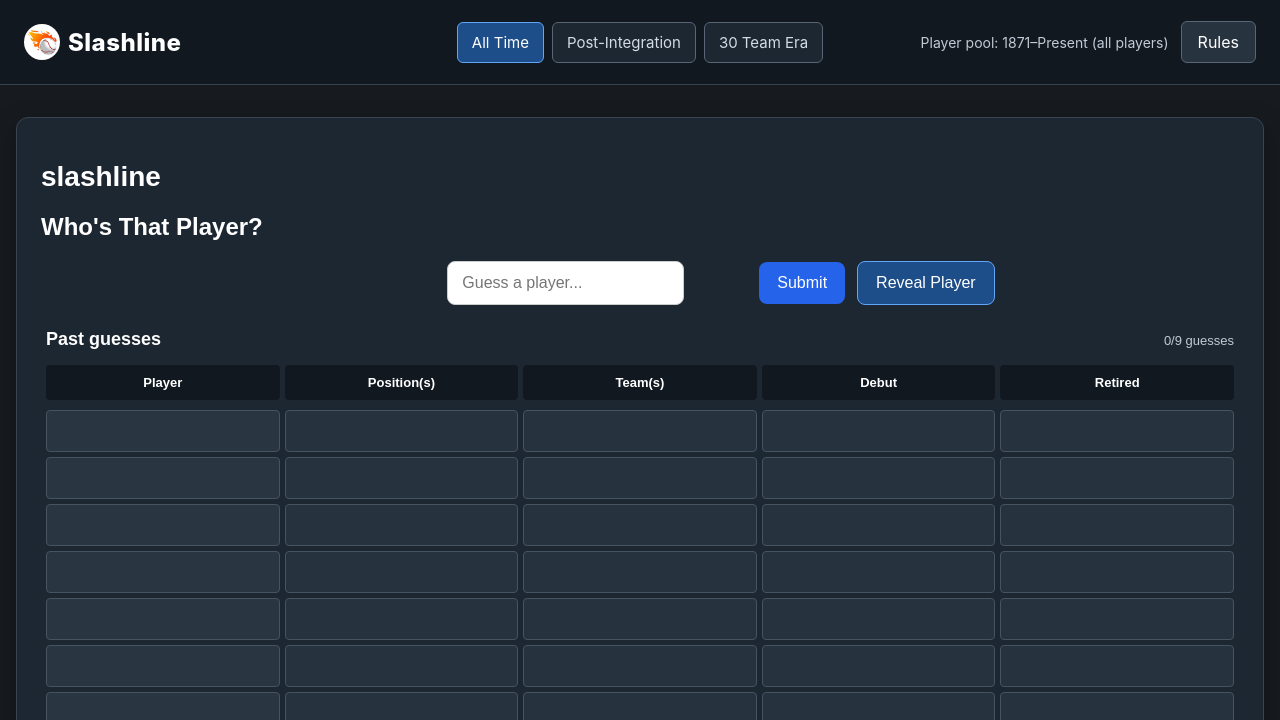
Game player guesses › shows confetti after a successful guess and removes it when the effect ends
Later steps or results of the test are not shown.
Type "Target Player" into the field with placeholder "Guess a player..." at (566, 283), box [447, 261, 684, 305]
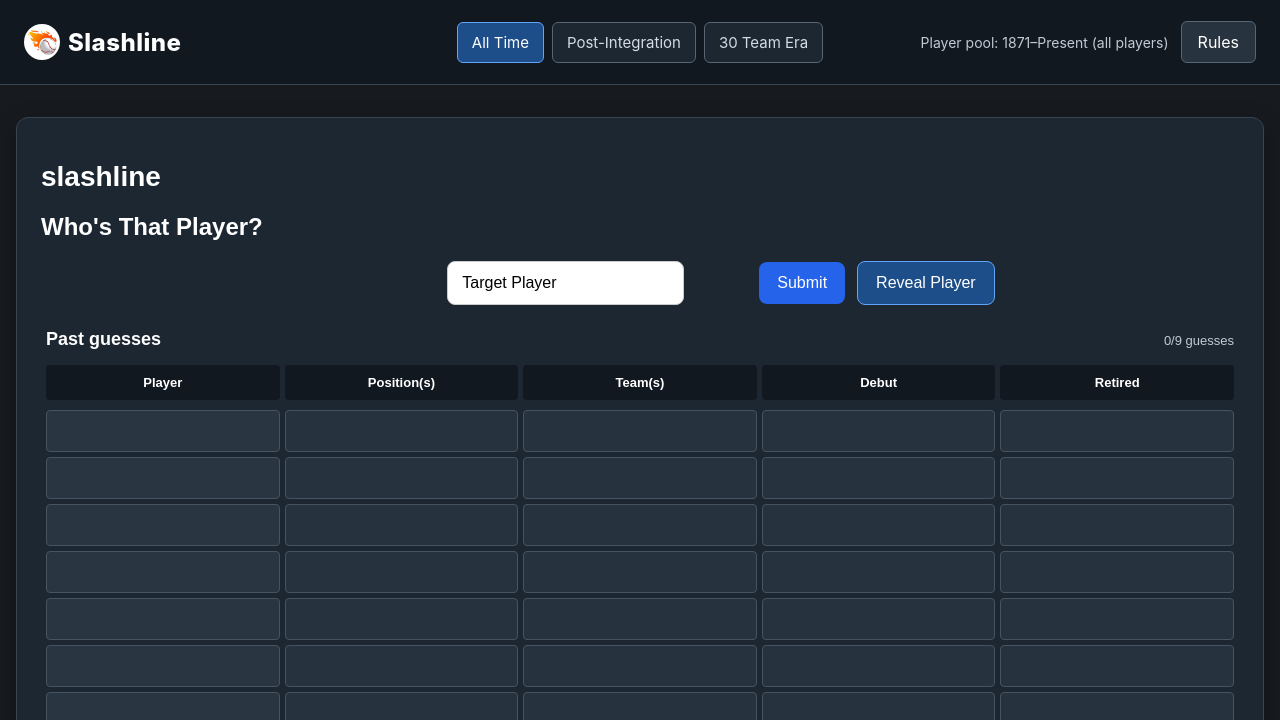
Click the button "Submit" at (802, 283), box [759, 262, 845, 304]
Wait 3500 ms
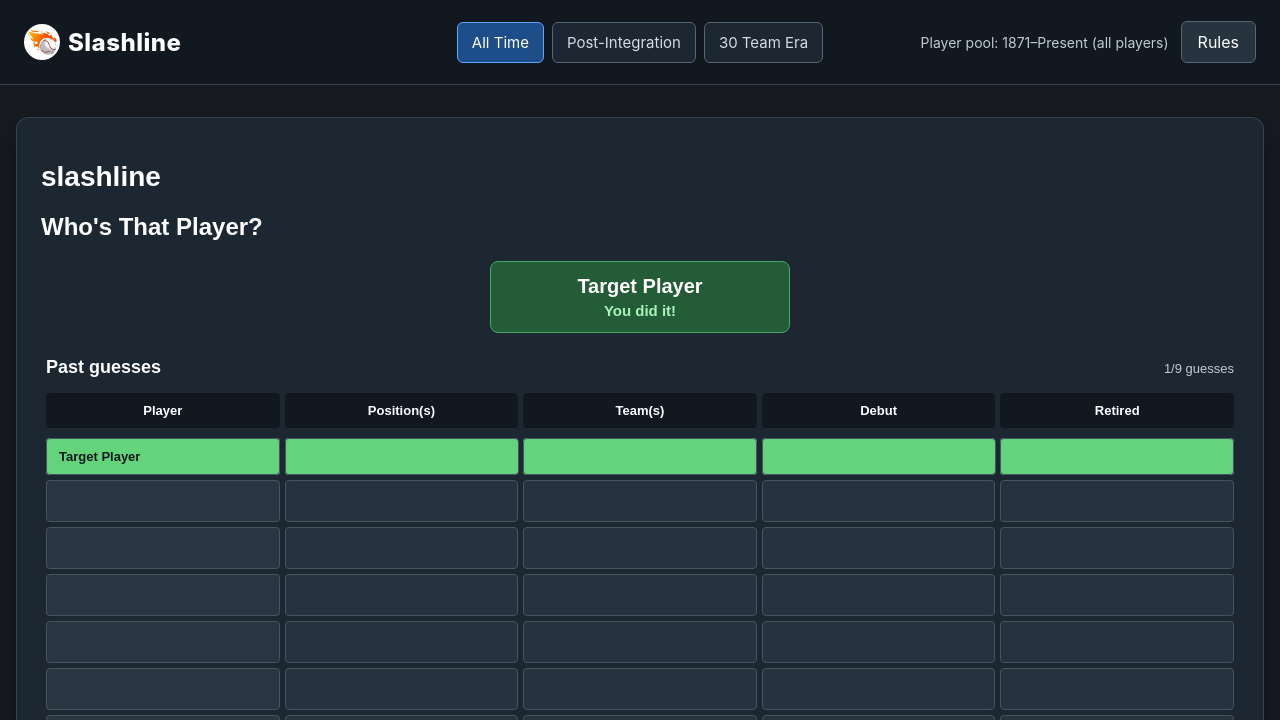
Now the text "You did it!" is shown, box [604, 302, 676, 319]
